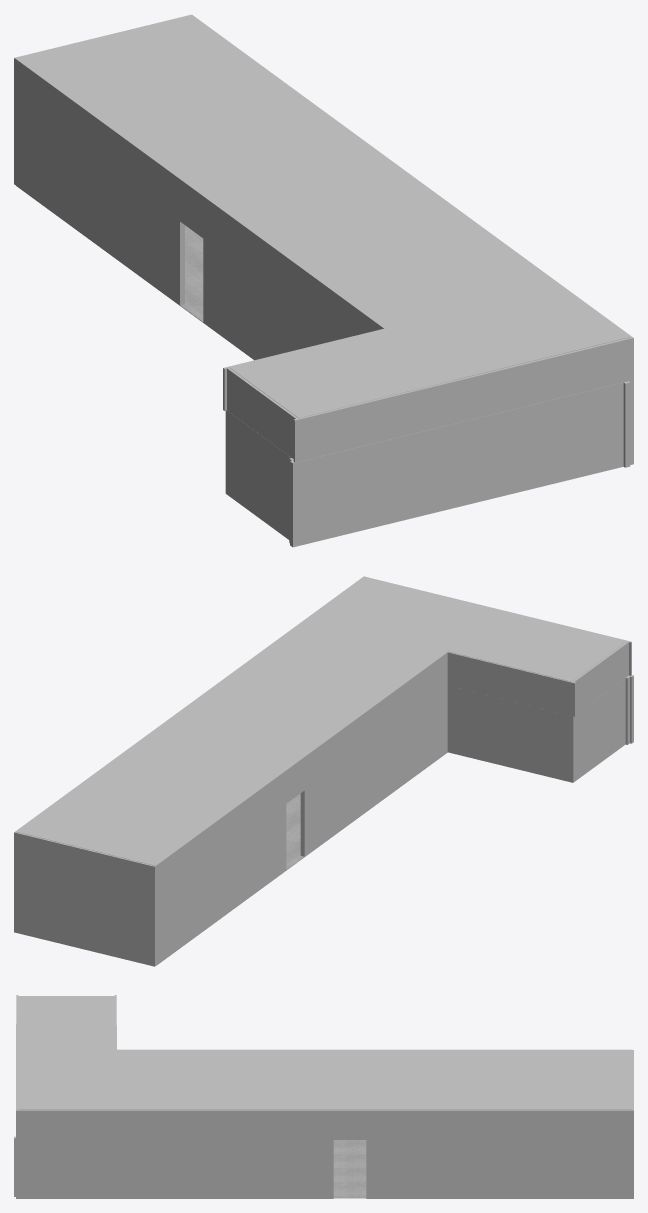
The model's file is BMVP.fbx.
3 renders of one model, top to bottom at view 1: azimuth 30°, elevation 25°; view 2: azimuth 150°, elevation 25°; view 3: azimuth 270°, elevation 25°, orthographic. The views are drawn at different scales.
Parts seen in each view (by area): view 1: C, BotW, TopW, F; view 2: C, BotW, TopW, F; view 3: C, BotW, TopW, F.
Part boxes in pixels (x1,y1,x2,y2): C: (15, 15, 629, 418); BotW: (14, 100, 633, 547); TopW: (14, 14, 633, 462); F: (16, 185, 254, 360); C: (17, 577, 626, 865); BotW: (14, 675, 633, 966); TopW: (14, 576, 631, 899); F: (156, 752, 447, 965); C: (18, 996, 632, 1109); BotW: (14, 1024, 633, 1198); TopW: (16, 995, 633, 1139); F: (333, 1140, 366, 1198).
Bounding box in the file's own units: 679 × 1528 × 241.
